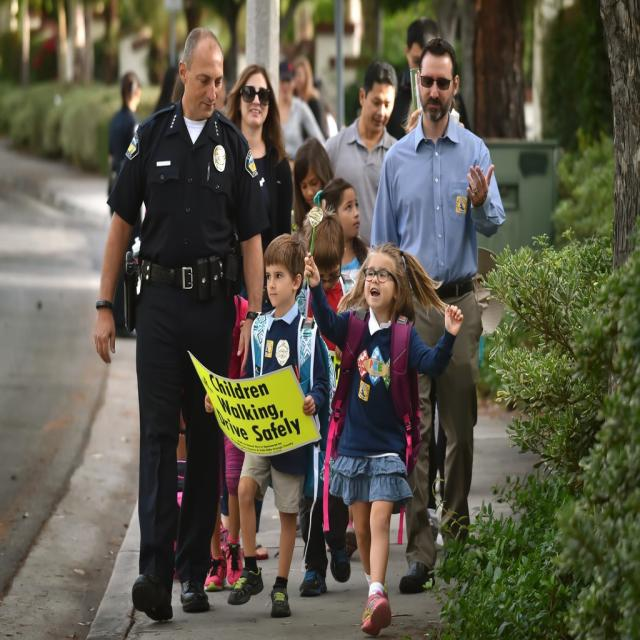body: (89, 22, 269, 623), (365, 35, 507, 601), (302, 240, 466, 638), (184, 229, 339, 622), (218, 61, 296, 480), (292, 208, 361, 598), (309, 177, 376, 561), (203, 434, 355, 593), (320, 58, 400, 250), (383, 16, 471, 142), (107, 69, 143, 295), (276, 59, 328, 182), (423, 393, 458, 558), (290, 135, 336, 235), (289, 53, 326, 144), (384, 59, 424, 143), (312, 76, 342, 145), (153, 66, 185, 112)
